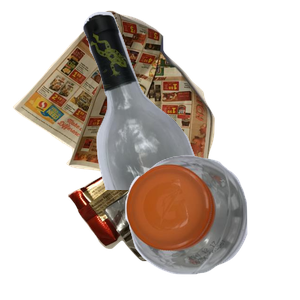glass: (81, 10, 300, 190)
paper: (10, 10, 217, 189)
plastic: (123, 152, 300, 300)
trash: (65, 148, 258, 300)
